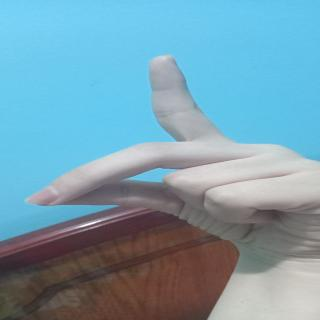TAA: (29, 50, 320, 254)
